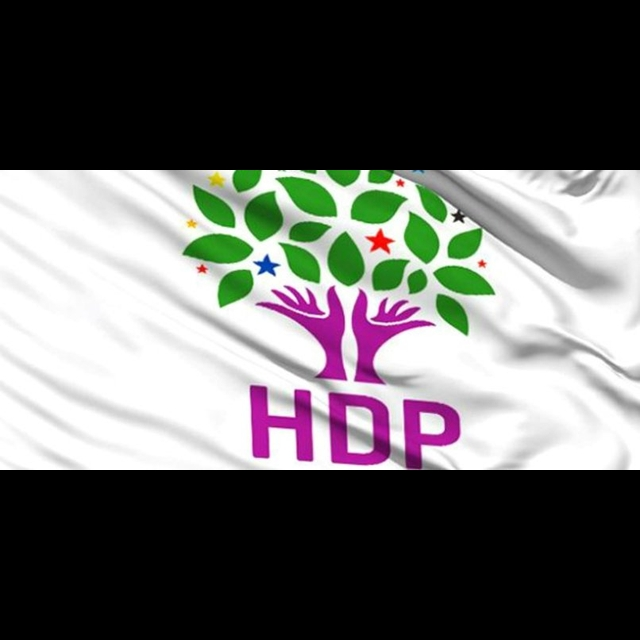HDP: (185, 171, 507, 387)
